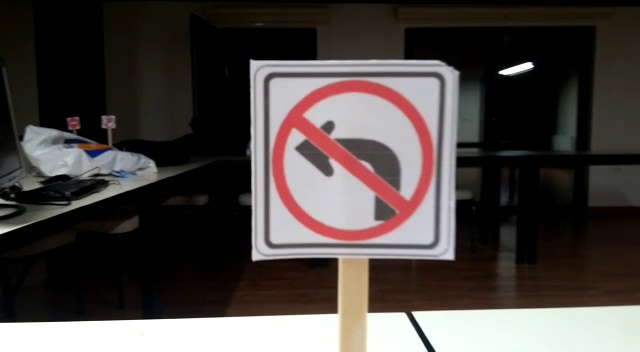sola_donulmez: (256, 59, 459, 252)
